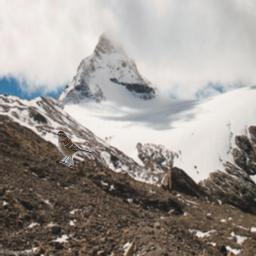Sparrow: (55, 129, 92, 169)
